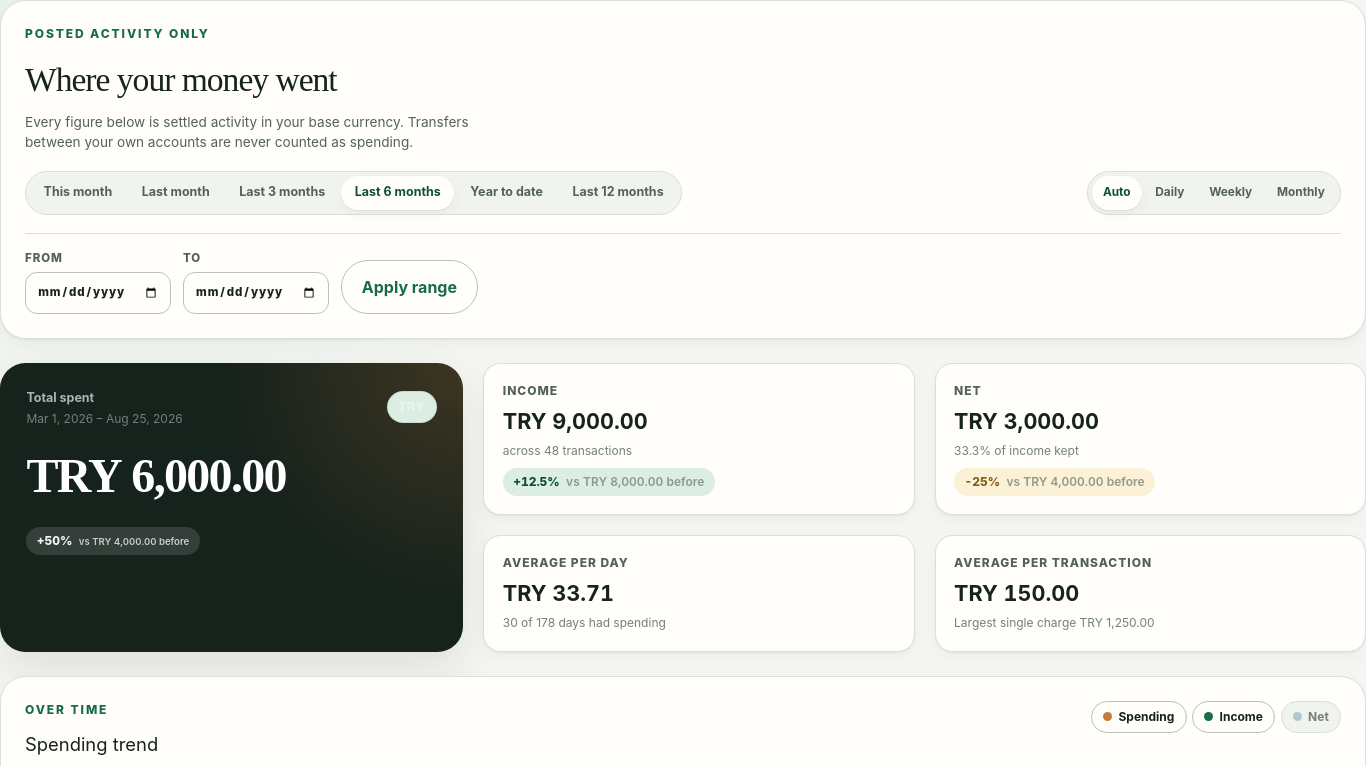
Test: AnalysisDashboard › rejects an inverted custom range before making another request
Expected: the text "Total spent" is shown, 26,390 -> 94,405
Type "2026-08-20" into the date field named "Analysis start date" at (98, 293), box 25,272 -> 171,314
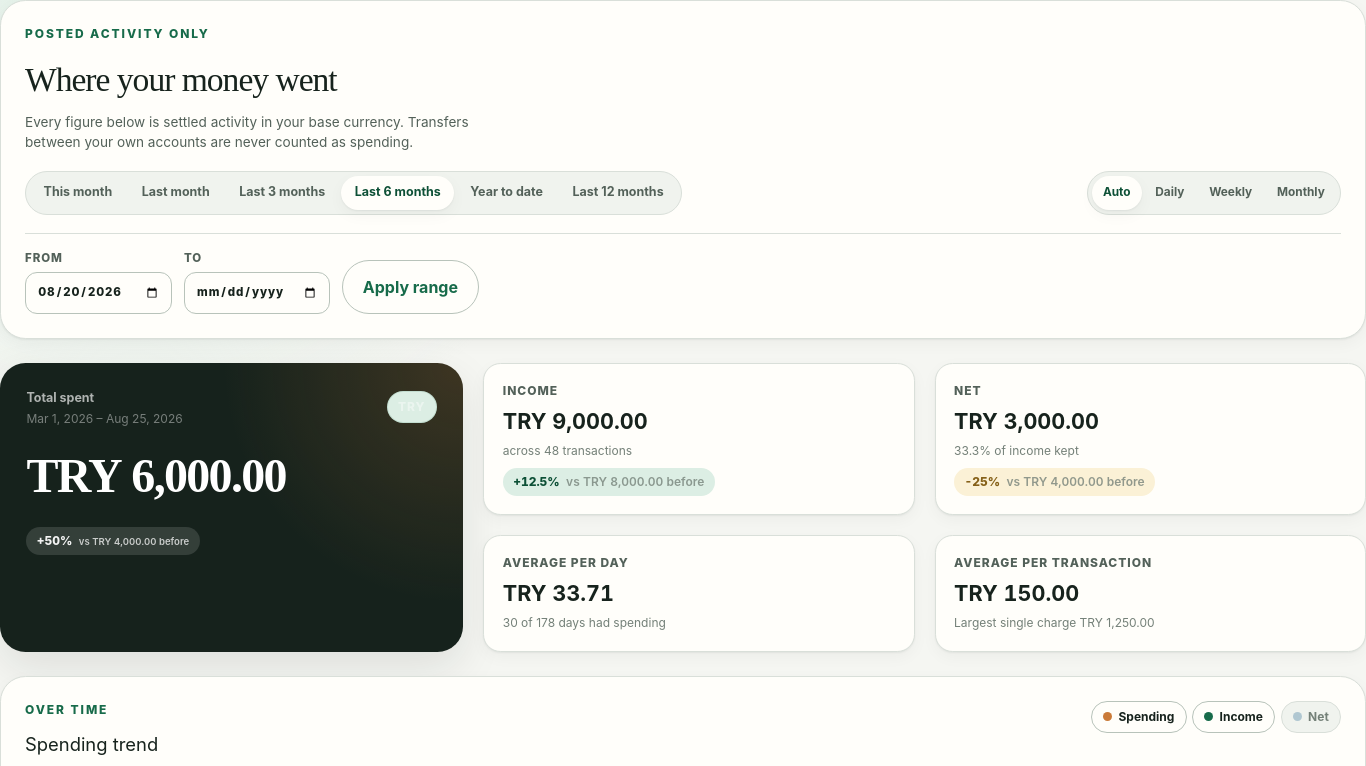
Type "2026-08-01" into the date field named "Analysis end date" at (257, 293), box 184,272 -> 330,314
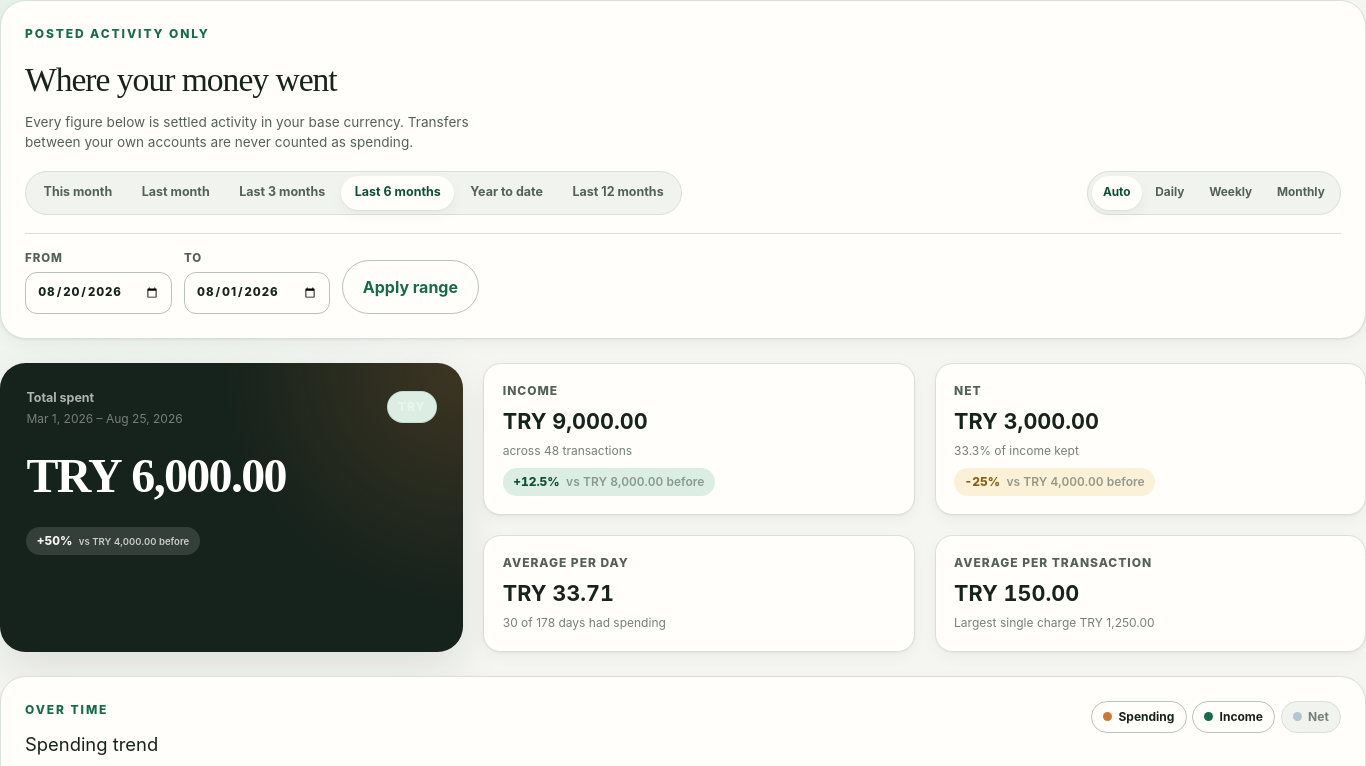
Click the button "Apply range" at (410, 287), box 342,260 -> 479,314
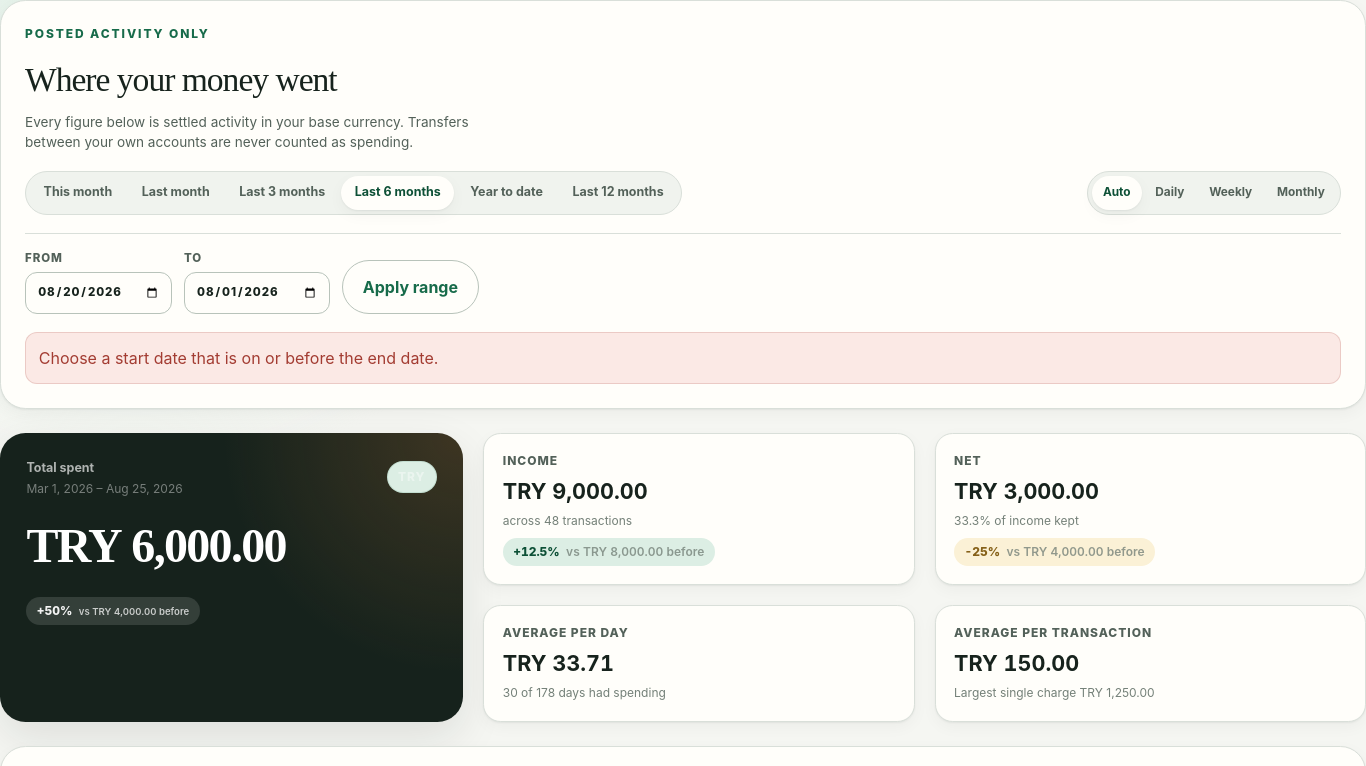
Expected: the message shows "on or before the end date", 39,348 -> 438,368
